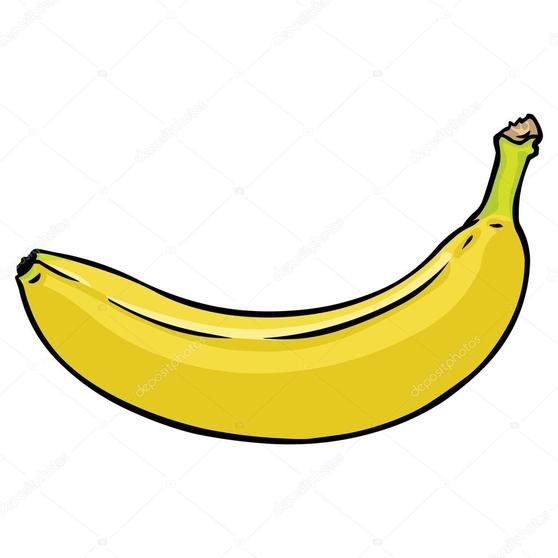banana: (15, 100, 551, 481)
